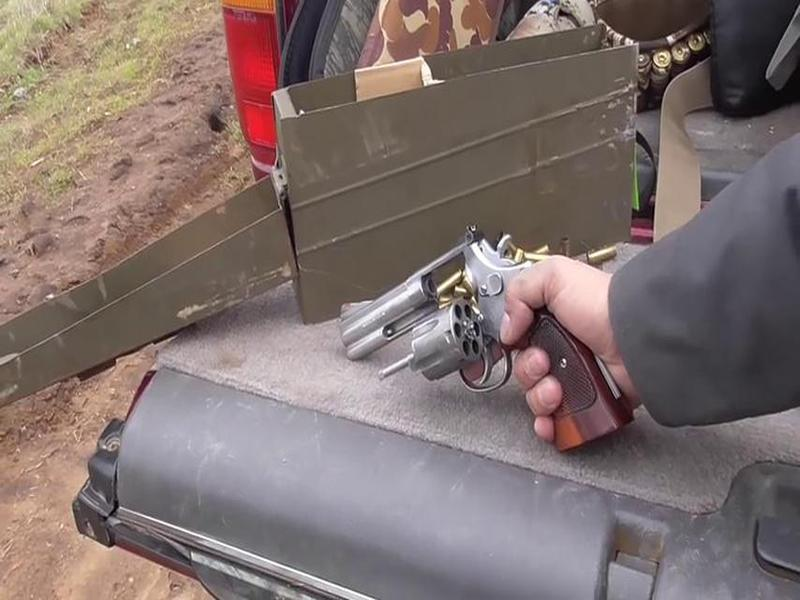Revolver: (327, 211, 653, 507)
